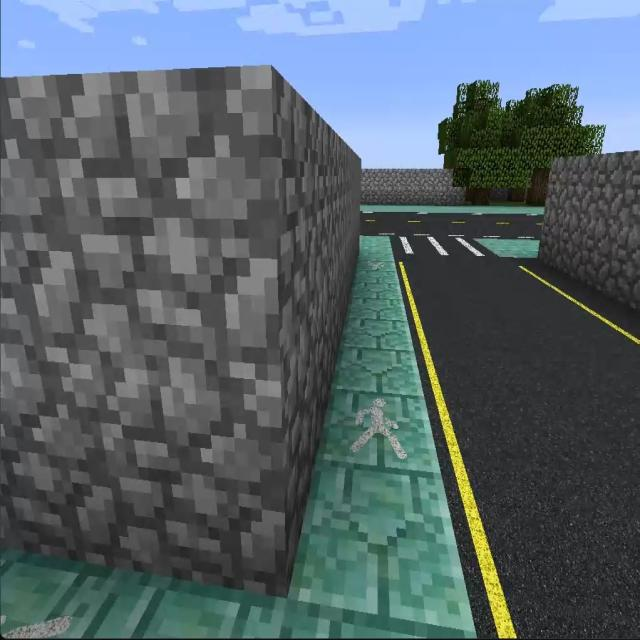crosswalk: (393, 234, 496, 260)
road: (401, 260, 639, 637), (362, 215, 546, 236)
sidewalk: (0, 235, 475, 639), (361, 204, 543, 215), (473, 238, 539, 258)
